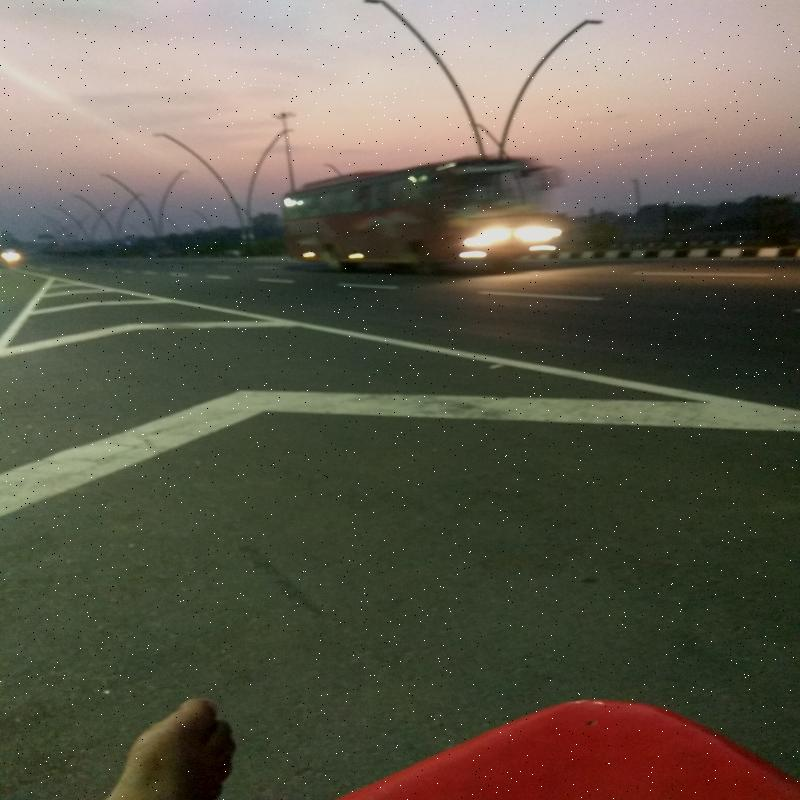bus: (254, 157, 551, 277)
